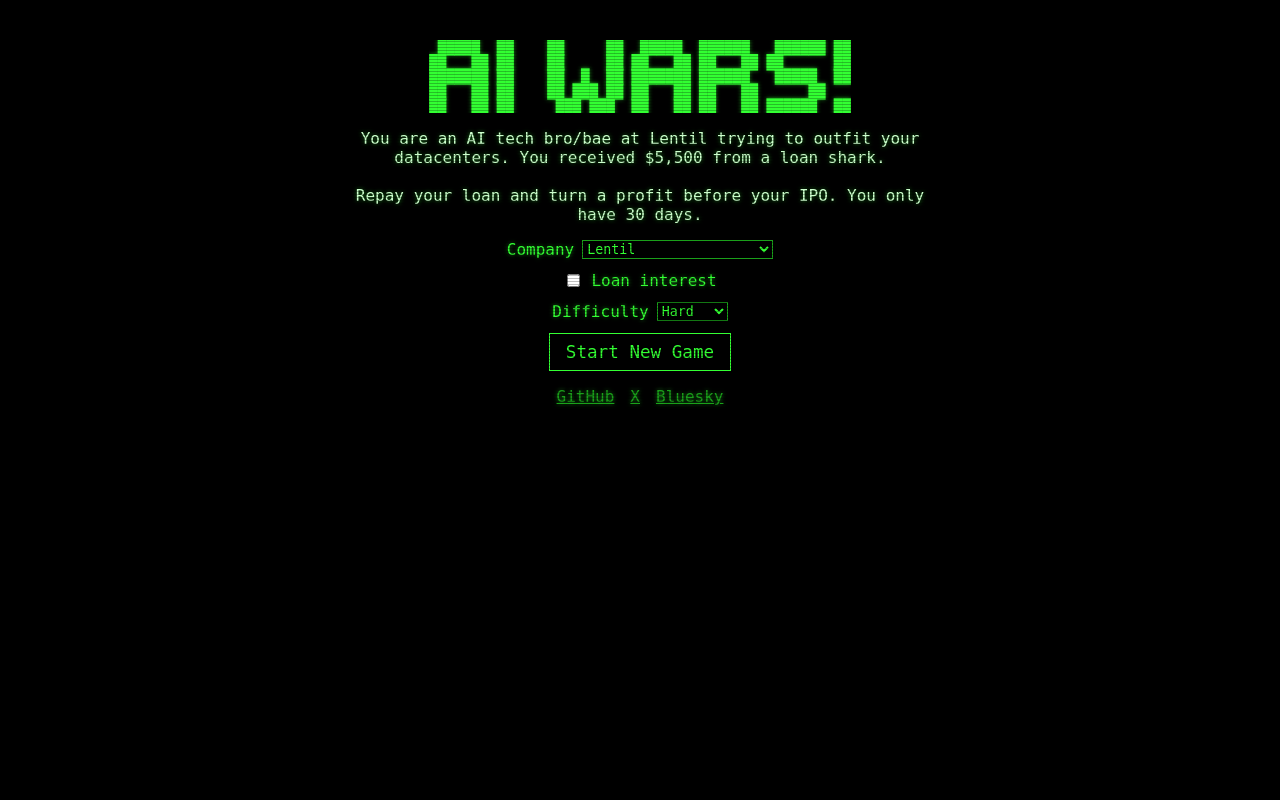
Scenario: AiWars › deposits into the data center once per day
The image size is (1280, 800).
Select "SMuC" in the dropdown labelled "Company" at (678, 250), box [582,240,773,259]
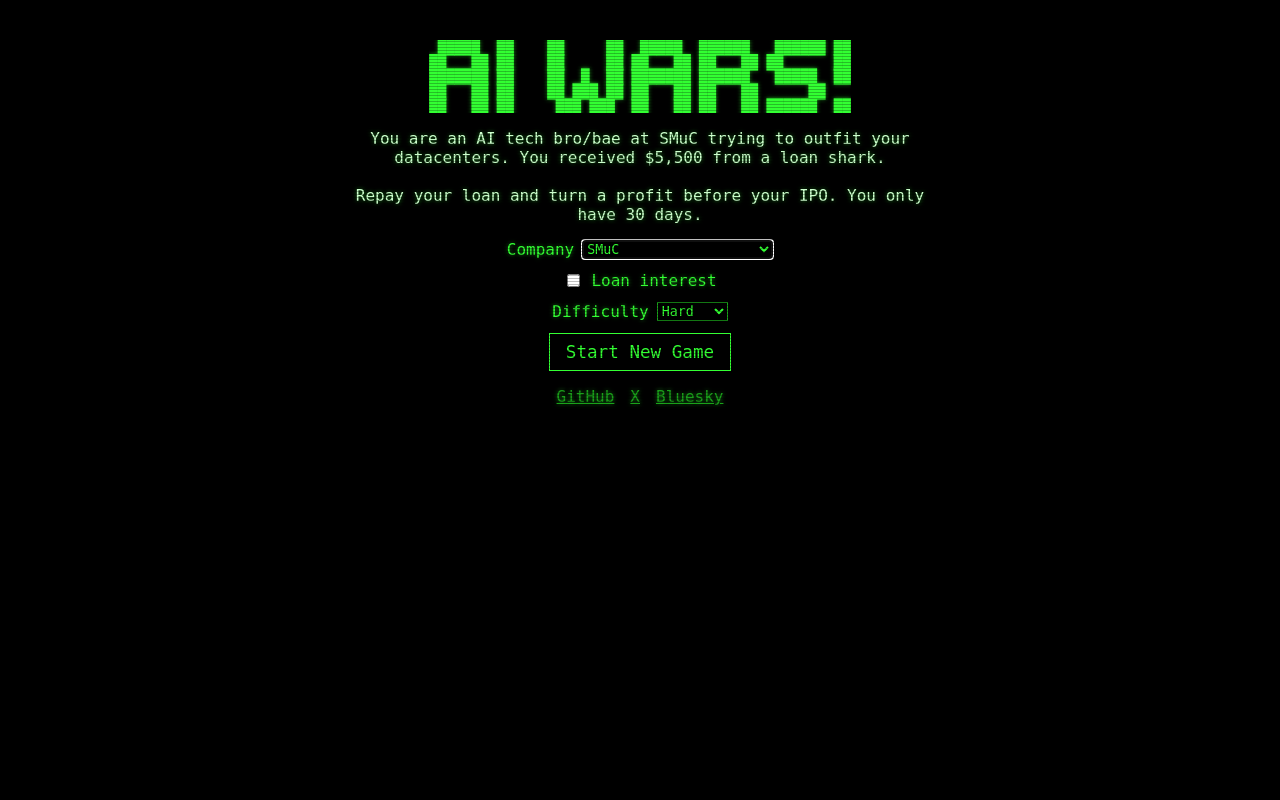
Click the button "Start New Game".
click(640, 352)  # box [549,333,731,371]
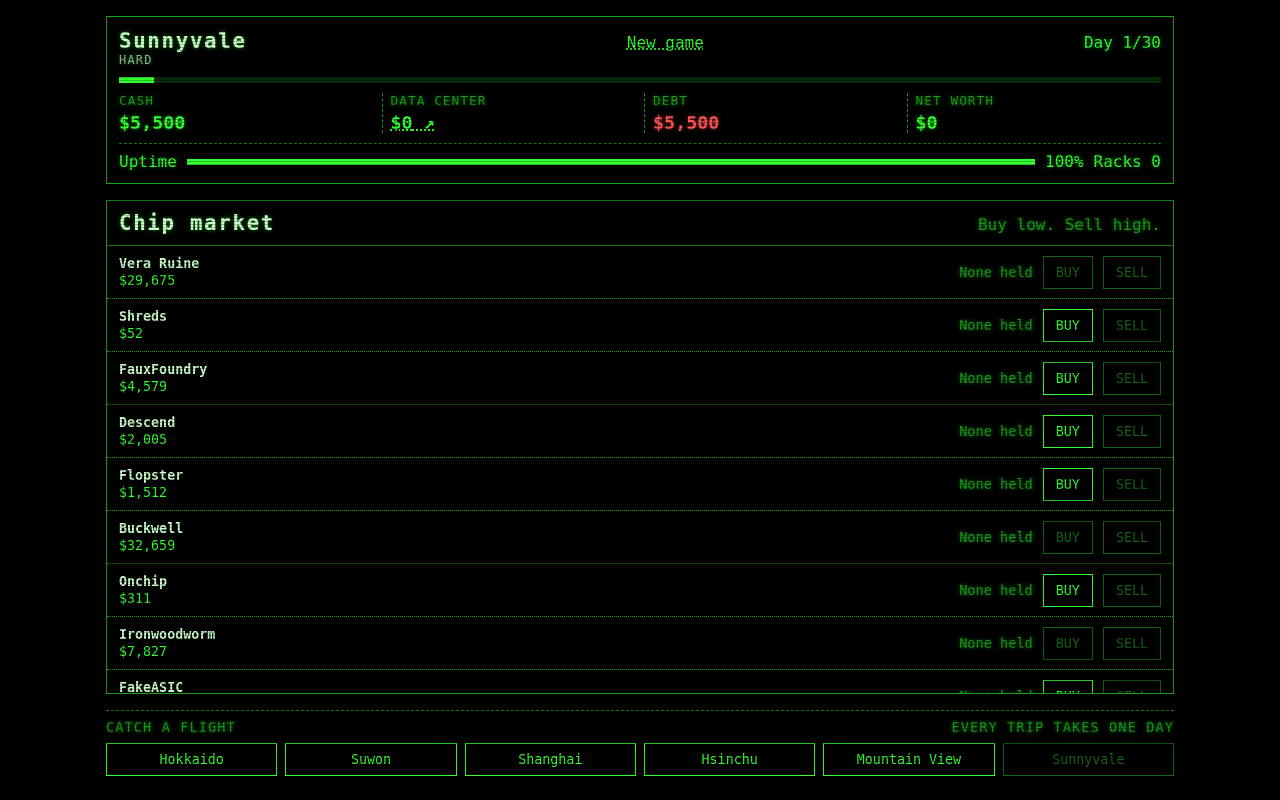
Click the button named "Open data center".
click(413, 122)  # box [390,112,435,133]
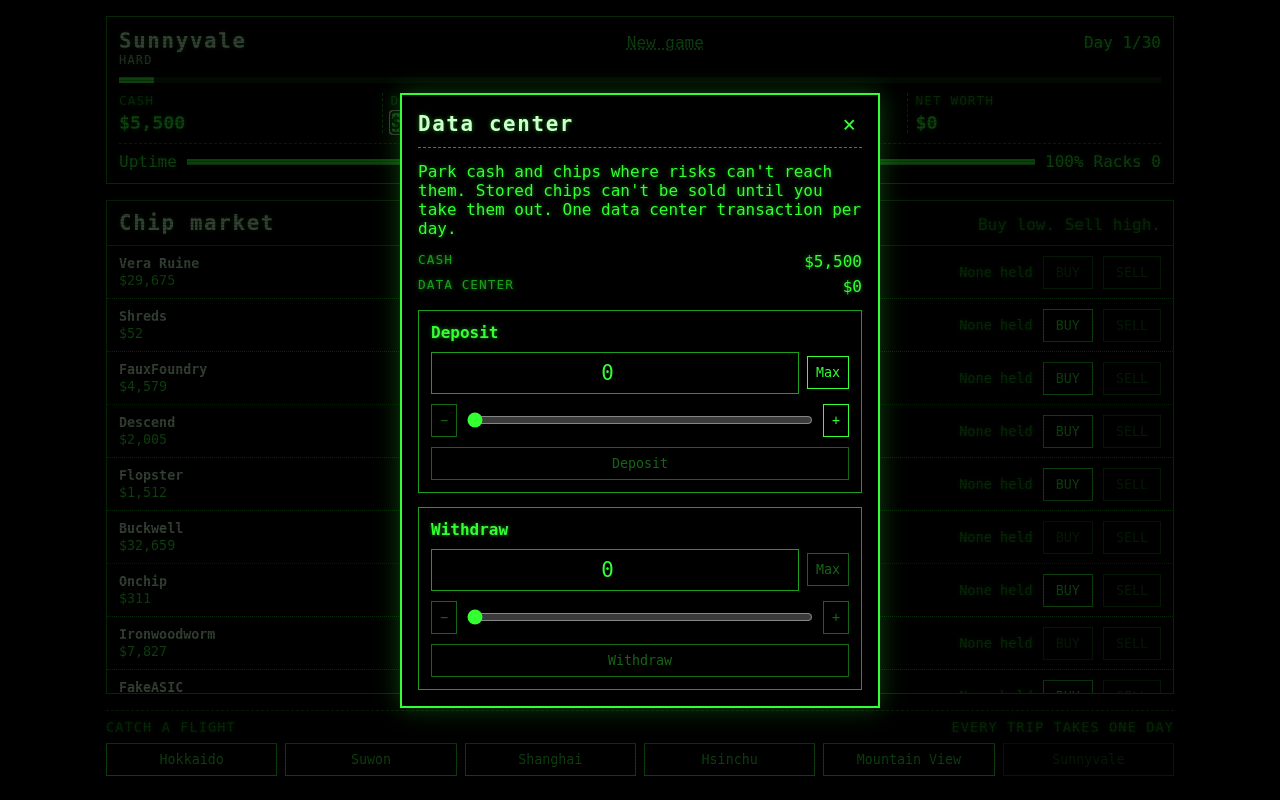
Click the button with aria-label "Max Deposit amount".
click(828, 372)  # box [807,356,849,389]
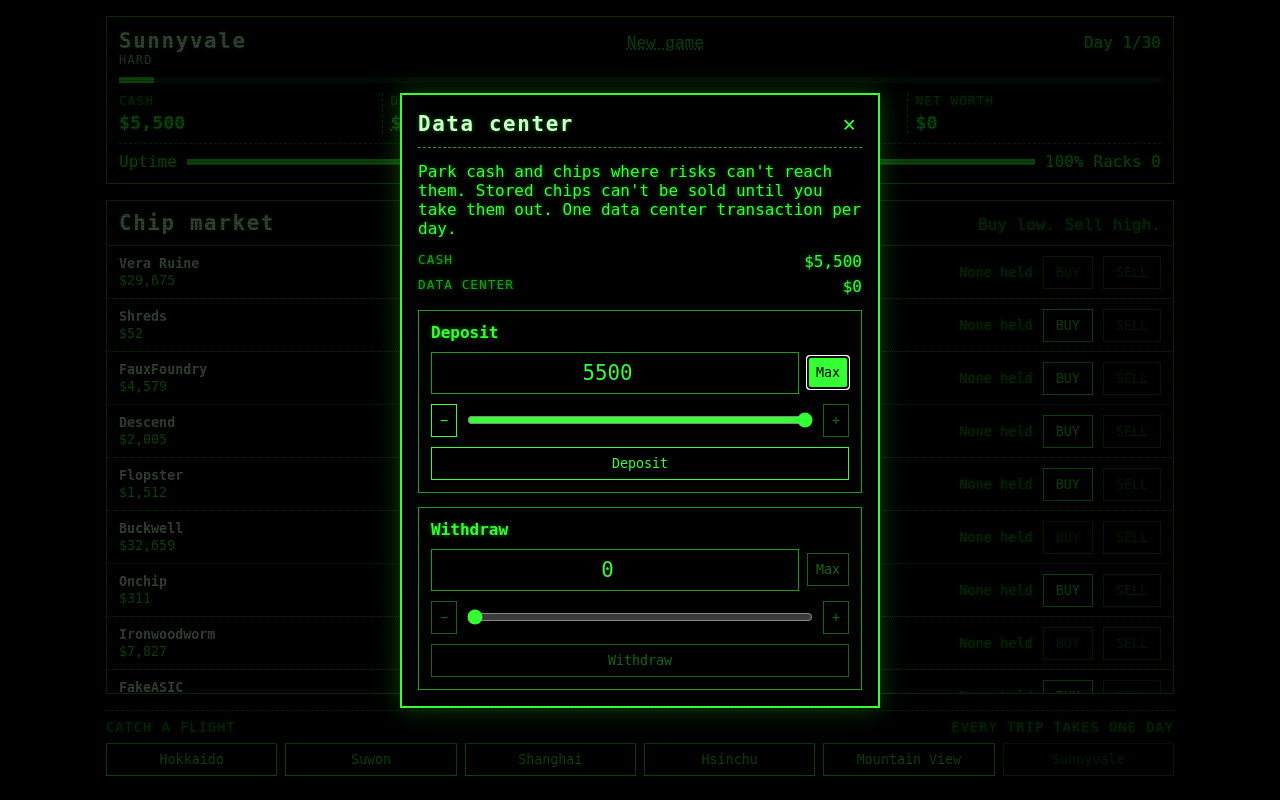
Click the button "Deposit".
click(640, 463)  # box [431,446,849,480]
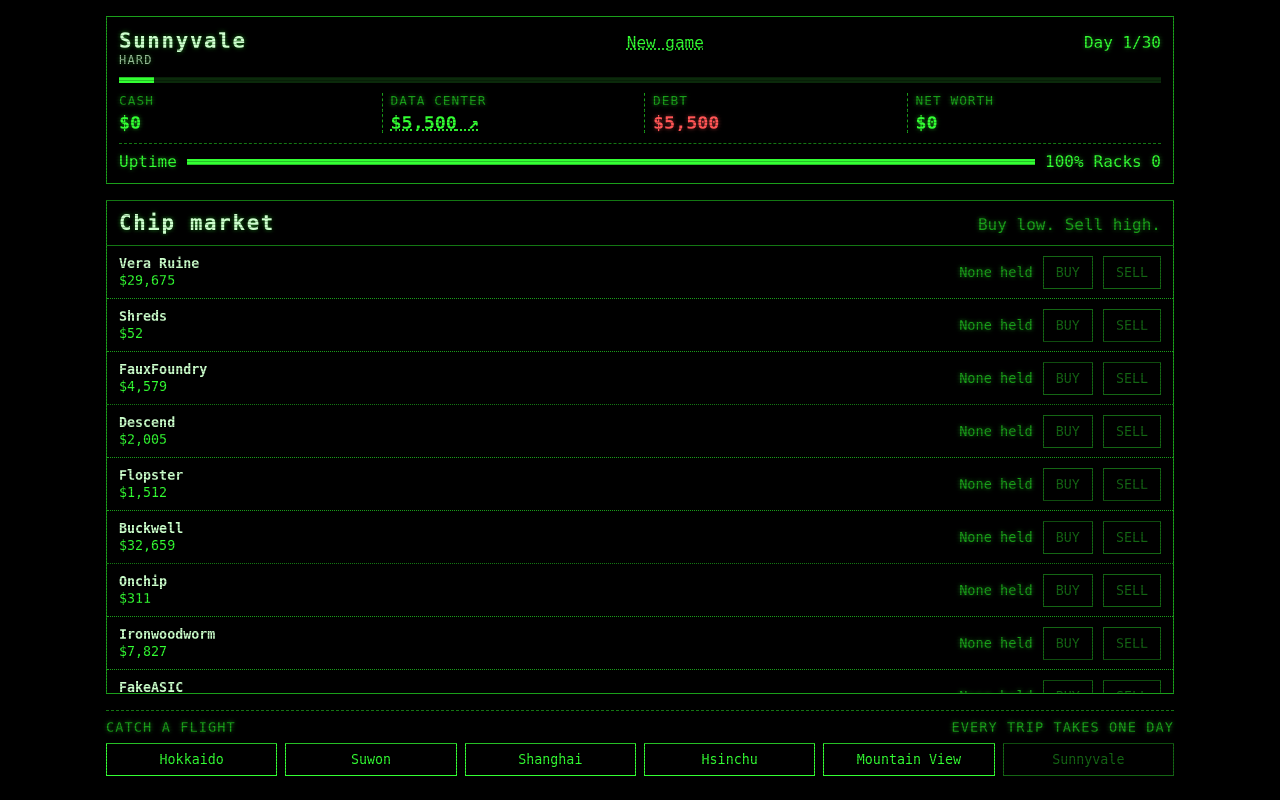
Click the button named "Open data center".
click(435, 122)  # box [390,112,479,133]
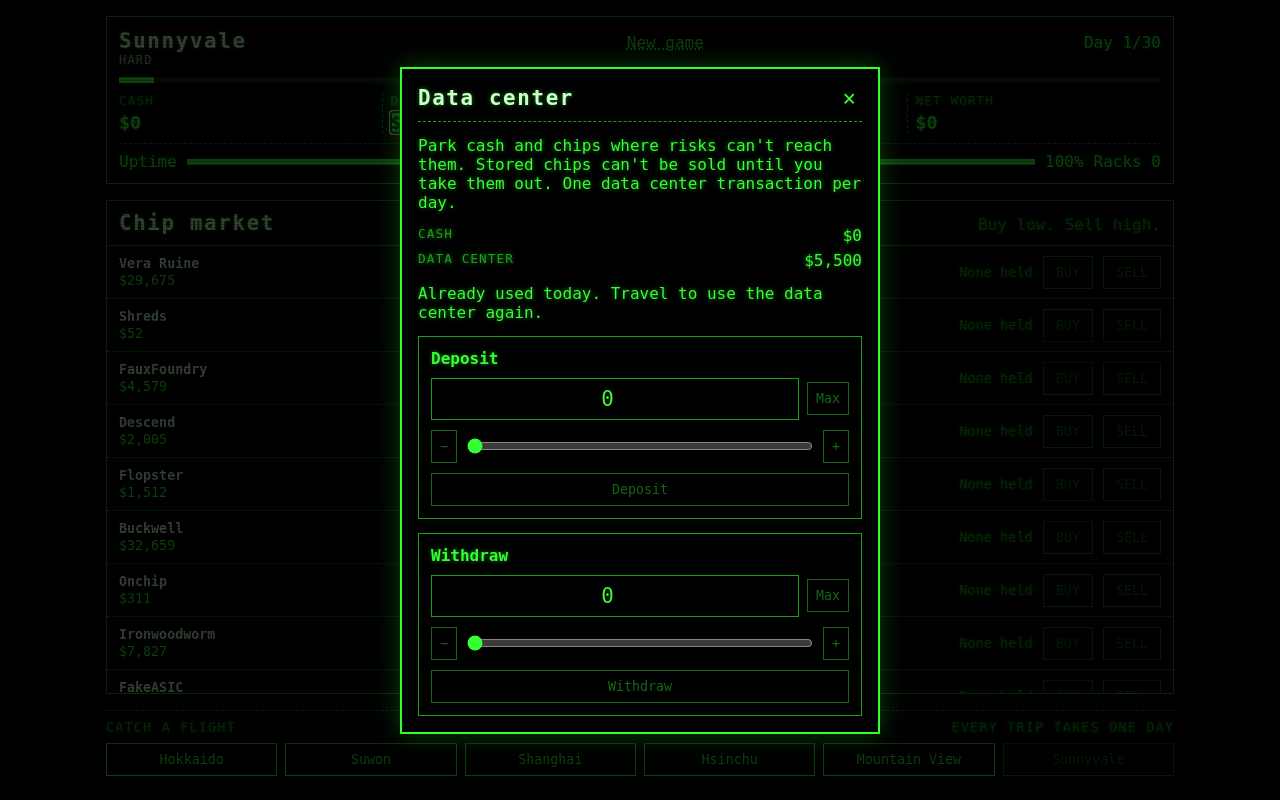
Check: the message shows "Already used today", box [418,284,823,322]
Check: the button "Withdraw" is disabled, box [431,670,849,702]
